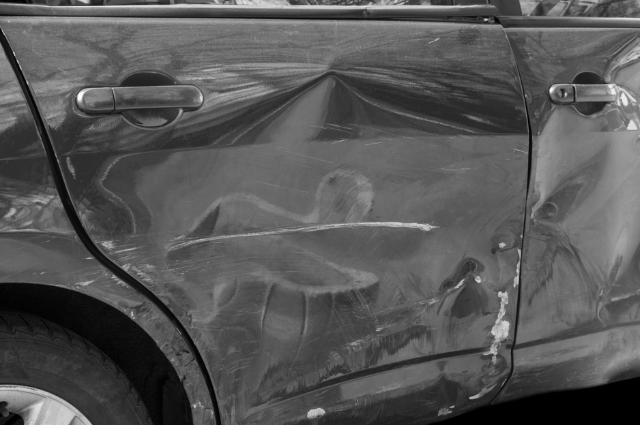Door: (63, 71, 640, 370)
